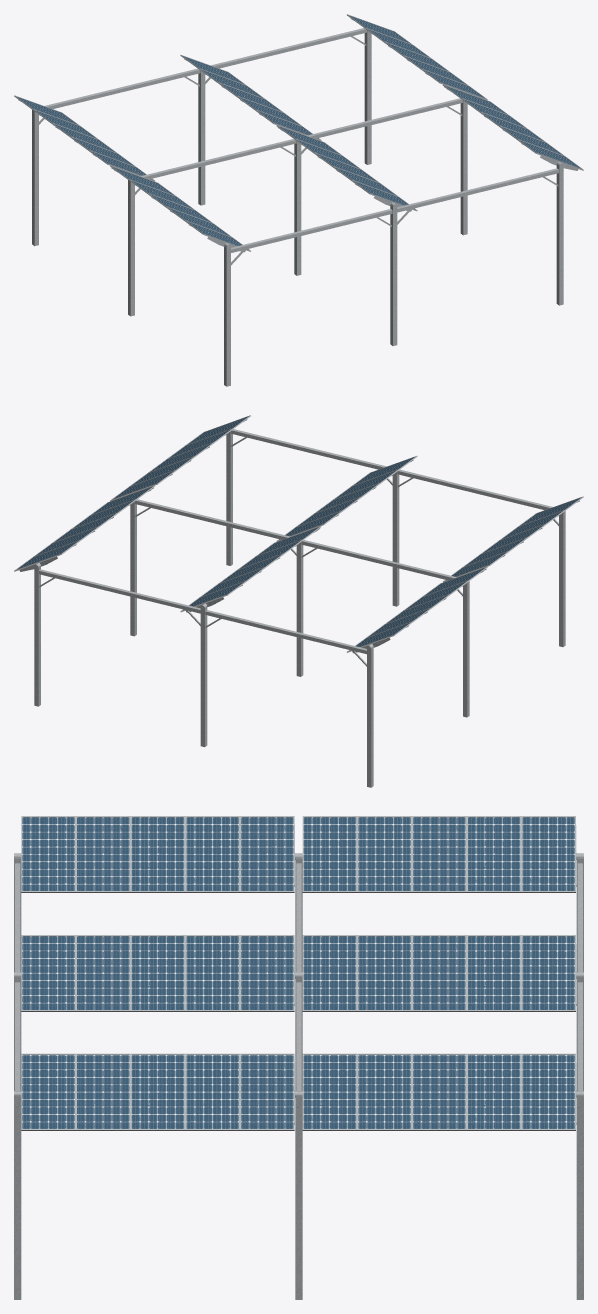
Rendered from PV_field_row_5x5.glb.
3 renders of one model, top to bottom at view 1: azimuth 30°, elevation 25°; view 2: azimuth 150°, elevation 25°; view 3: azimuth 270°, elevation 25°, orthographic. The views are drawn at different scales.
Parts seen in each view (by area): view 1: instance_52, instance_53, instance_51, instance_54, instance_56, instance_55, instance_48, group_10.003, group_10, instance_49, instance_50, group_10.001 (+3 smaller); view 2: instance_56, instance_52, instance_51, instance_49, group_10.004, group_10.005, instance_55, instance_48, instance_50, group_10.003, group_10, group_10.002 (+3 smaller); view 3: instance_0.003, instance_4.011, instance_15.007, instance_4.015, instance_11.003, instance_0.007, instance_1.003, instance_2.003, instance_3.003, instance_4.003, instance_0.011, instance_1.011 (+27 smaller).
Part boxes in pixels (bbox=[...]): instance_52: bbox=[390, 205, 397, 345]; instance_53: bbox=[556, 165, 563, 305]; instance_51: bbox=[294, 141, 301, 275]; instance_54: bbox=[460, 100, 467, 235]; instance_56: bbox=[198, 71, 205, 205]; instance_55: bbox=[364, 30, 371, 164]; instance_48: bbox=[224, 246, 230, 386]; group_10.003: bbox=[397, 168, 558, 212]; group_10: bbox=[231, 209, 392, 252]; instance_49: bbox=[32, 110, 38, 246]; instance_50: bbox=[128, 180, 134, 316]; group_10.001: bbox=[140, 139, 296, 179]; instance_56: bbox=[200, 606, 207, 747]; instance_52: bbox=[392, 472, 399, 606]; instance_51: bbox=[296, 542, 303, 676]; instance_49: bbox=[367, 647, 373, 787]; group_10.004: bbox=[39, 569, 200, 613]; group_10.005: bbox=[205, 610, 366, 654]; instance_55: bbox=[34, 566, 40, 706]; instance_48: bbox=[559, 511, 565, 646]; instance_50: bbox=[463, 581, 469, 717]; group_10.003: bbox=[231, 429, 386, 469]; group_10: bbox=[397, 469, 552, 510]; group_10.002: bbox=[135, 499, 290, 539]; instance_0.003: bbox=[131, 817, 184, 890]; instance_4.011: bbox=[303, 817, 356, 890]; instance_15.007: bbox=[303, 936, 356, 1009]; instance_4.015: bbox=[303, 1055, 356, 1128]; instance_11.003: bbox=[131, 936, 184, 1009]; instance_0.007: bbox=[131, 1055, 184, 1128]; instance_1.003: bbox=[77, 817, 129, 890]; instance_2.003: bbox=[186, 817, 238, 890]; instance_3.003: bbox=[241, 817, 293, 890]; instance_4.003: bbox=[22, 817, 74, 890]; instance_0.011: bbox=[413, 817, 465, 890]; instance_1.011: bbox=[358, 817, 410, 890].
Size of the model in its own units: 11.44 by 4.48 by 10.13.
Materials: 4 (3 with a texture image).
